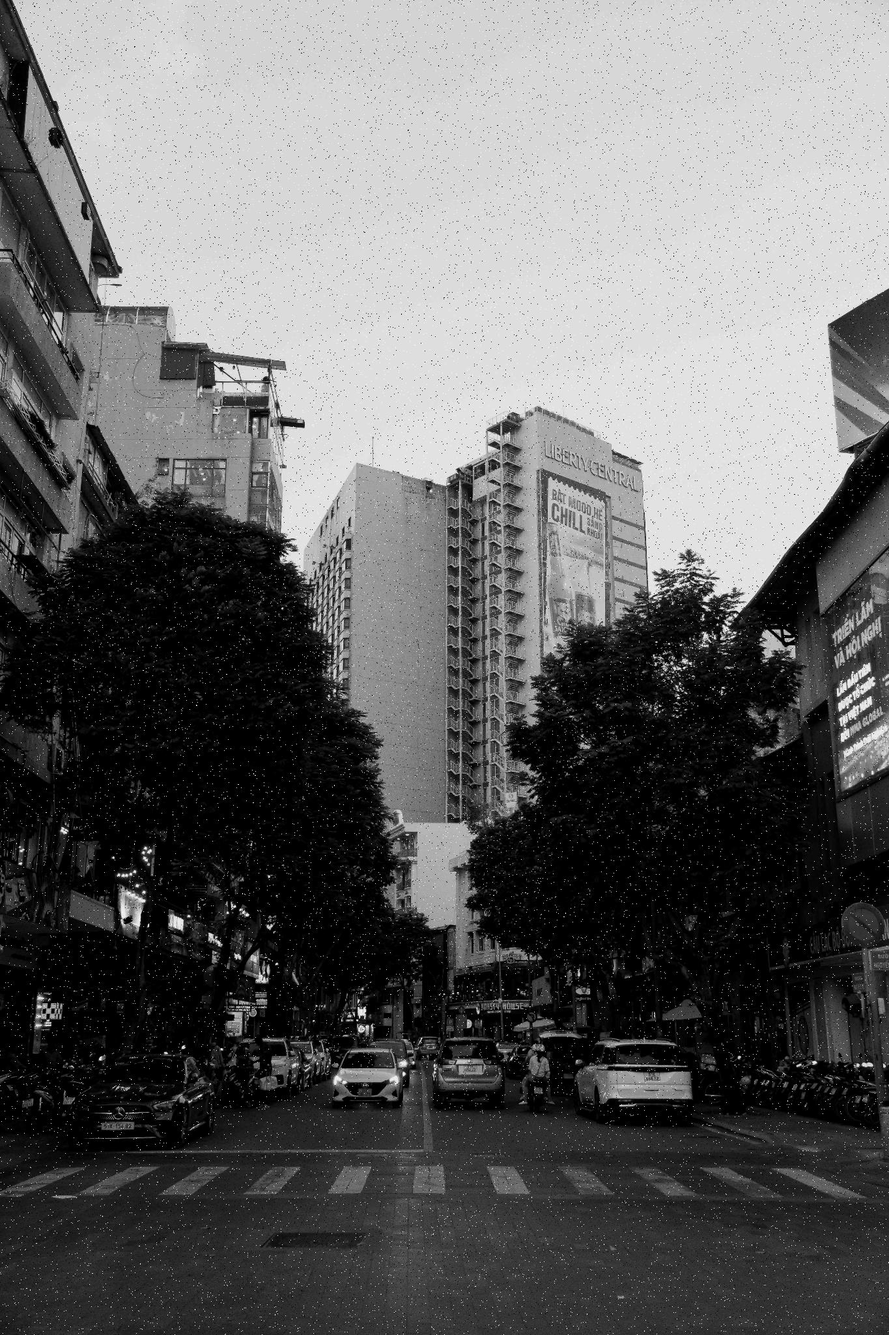car: (64, 1050, 213, 1148), (576, 1035, 699, 1123), (433, 1043, 507, 1111), (333, 1049, 402, 1110), (256, 1039, 297, 1102), (287, 1039, 317, 1095), (415, 1039, 441, 1066)
